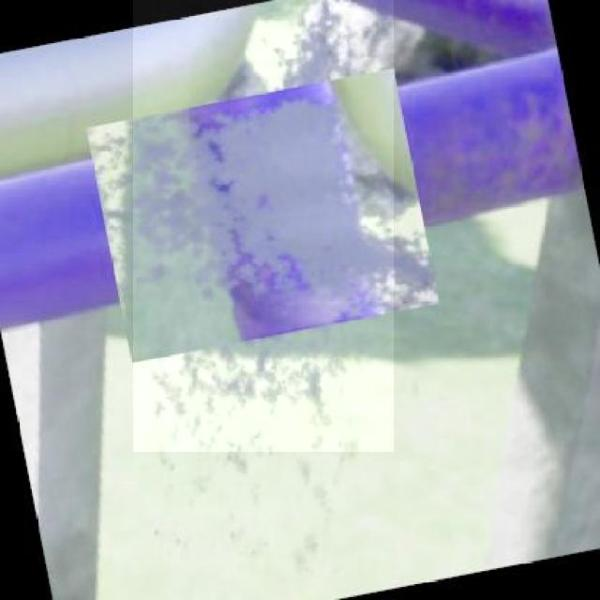gas: (134, 0, 394, 451)
